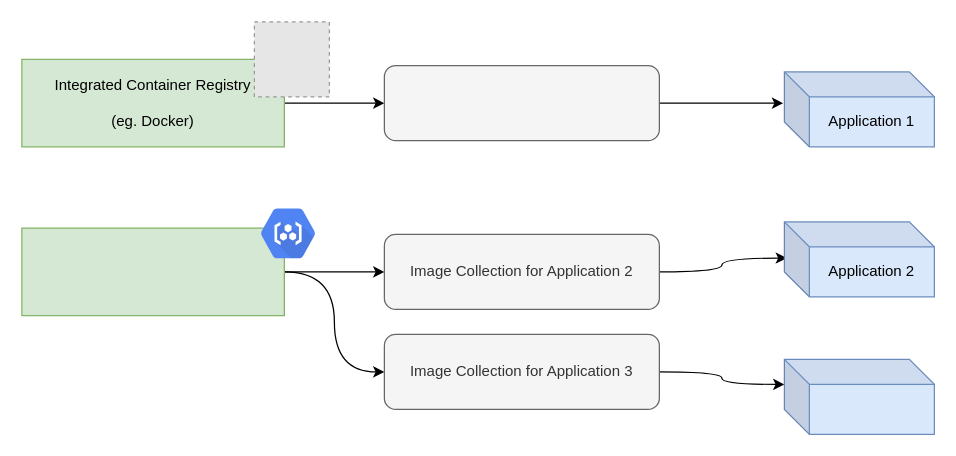
This 956x456 diagram has some shape labels left out. Grey dashed boxes stand in for pictures. Here are the shapes that lost their labels. From the top down, the centre of each, then its label:
At pixel 521 102: "Image Collection for Application 1".
At pixel 152 271: "Integrated Container Registry (eg. GCR)".
At pixel 858 396: "Application 3".
